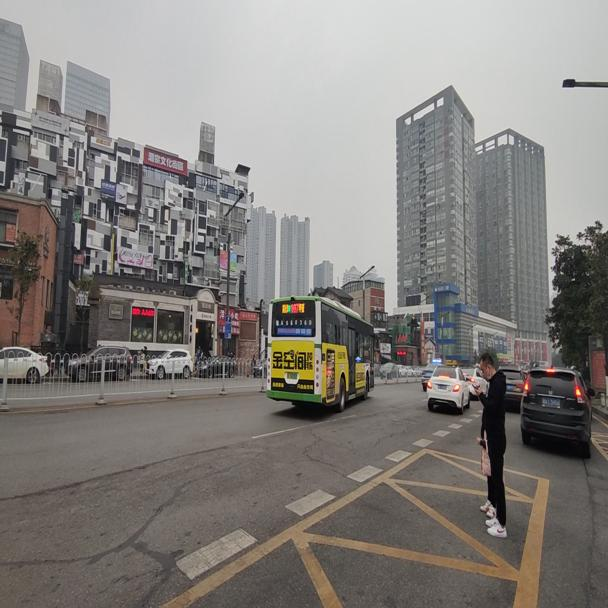bus: (266, 291, 378, 412)
screen: (290, 302, 298, 311)
